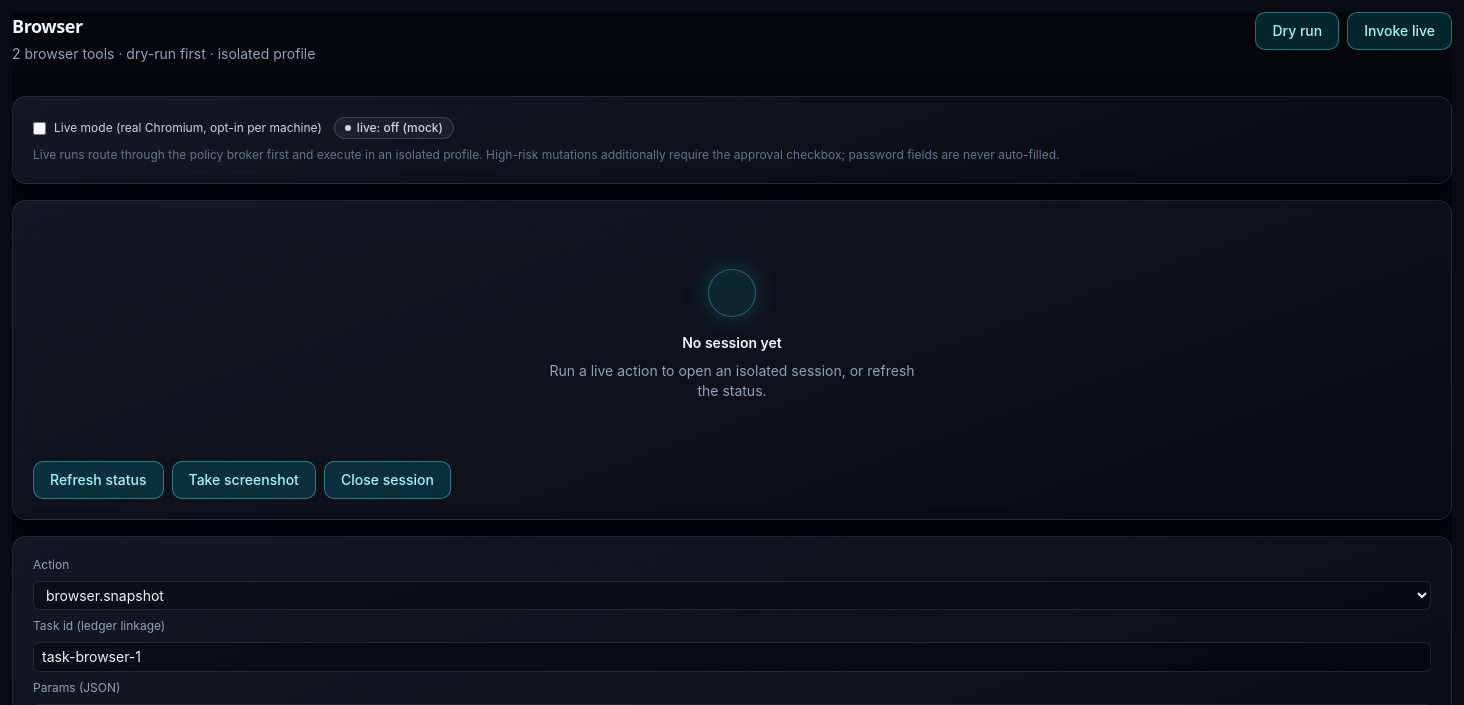
it: BrowserPage › toggles live mode off by default
Check: the text "live: off (mock)" is shown, box [334,117,454,139]
Click the checkbox labelled "Live mode (real Chromium, opt-in per machine)" at (40, 128), box [33,122,46,134]
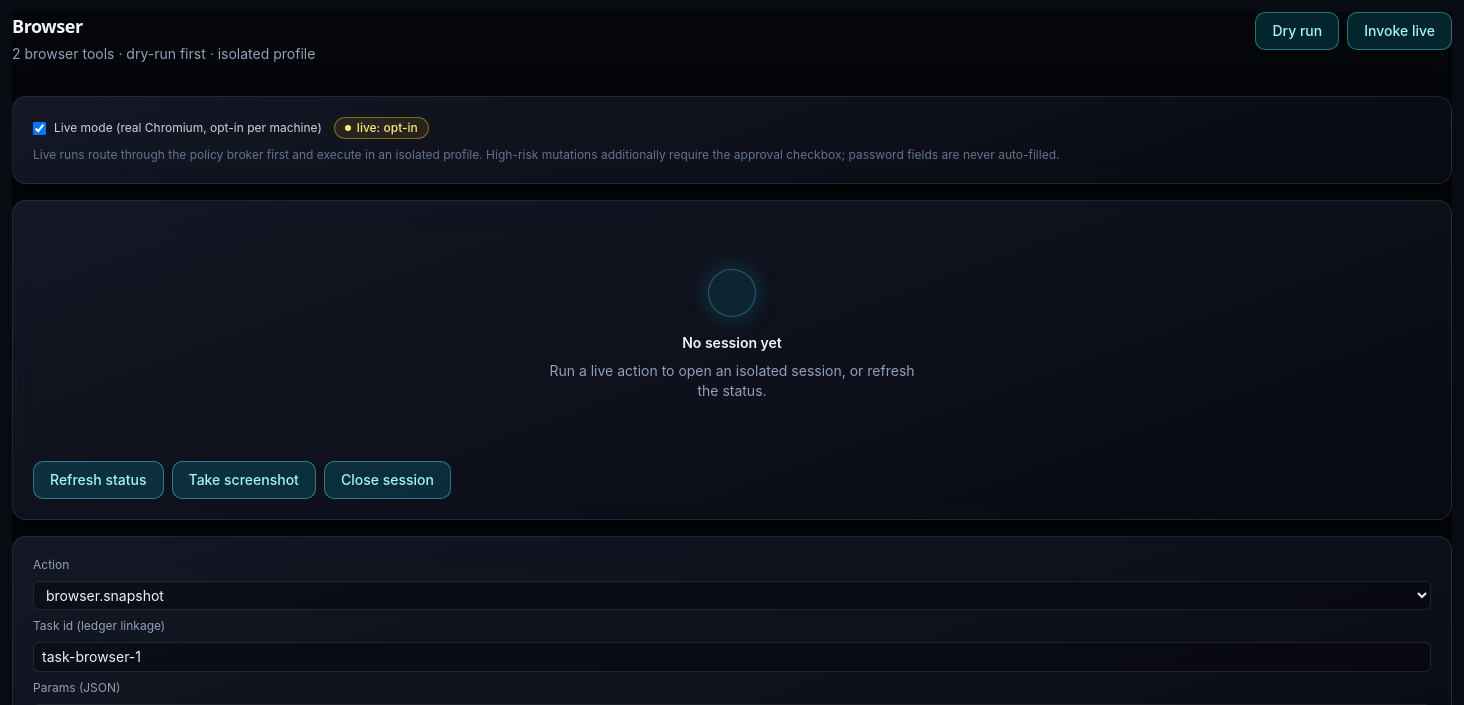
Check: the text "live: opt-in" is shown, box [334,117,429,139]
